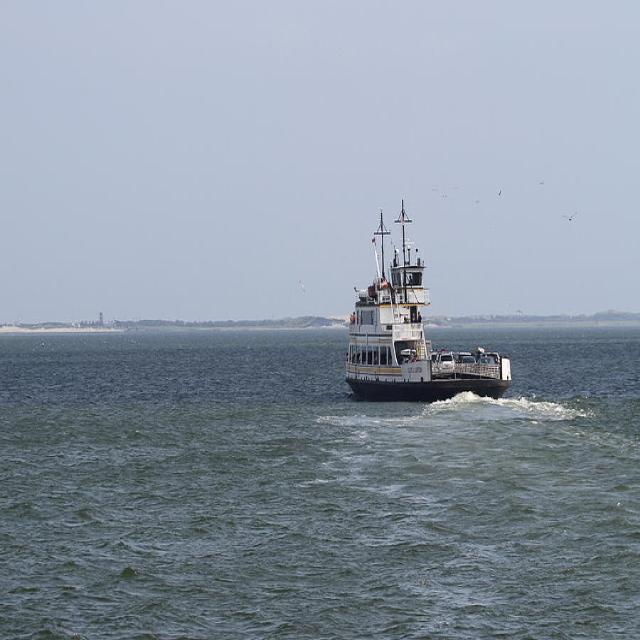cargoship: (345, 222, 512, 398)
